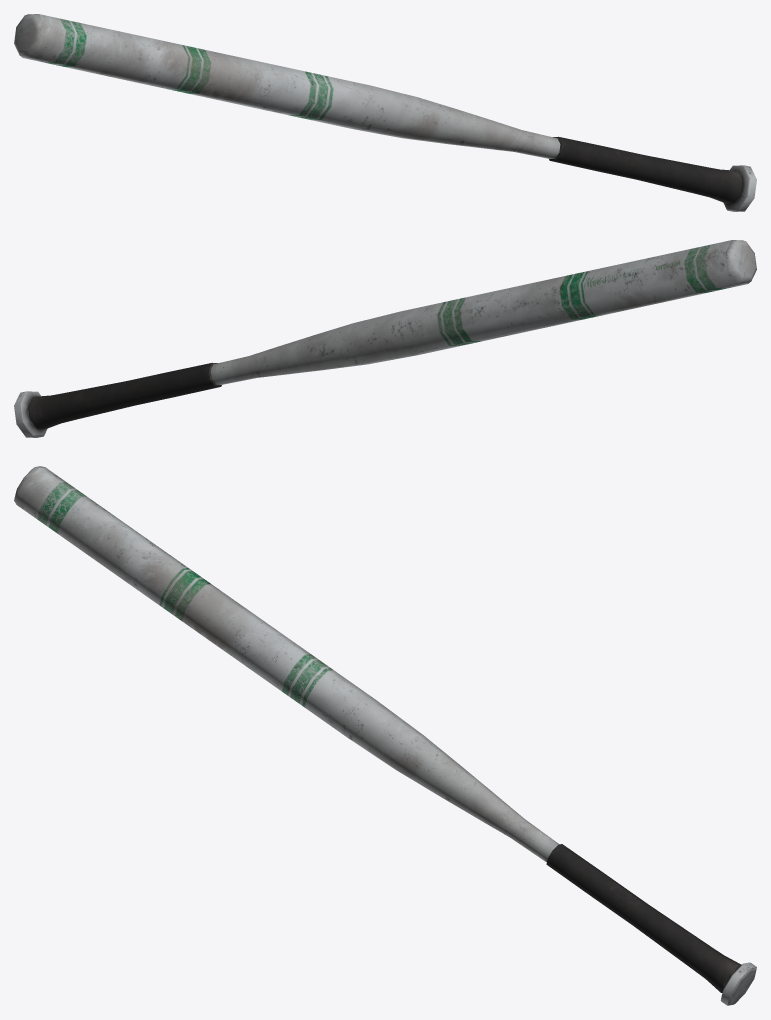
3 renders of one model, top to bottom at view 1: azimuth 30°, elevation 25°; view 2: azimuth 150°, elevation 25°; view 3: azimuth 330°, elevation 25°, orthographic.
Visible parts, largest first — view 1: BaseballBat; view 2: BaseballBat; view 3: BaseballBat.
Part boxes in pixels (<box>): BaseballBat: <box>14,14,756,211</box>; BaseballBat: <box>14,240,756,437</box>; BaseballBat: <box>14,466,756,1005</box>.
Size of the model in its own units: 0.954 by 0.4577 by 0.0558.
1 material, 1 textured.
